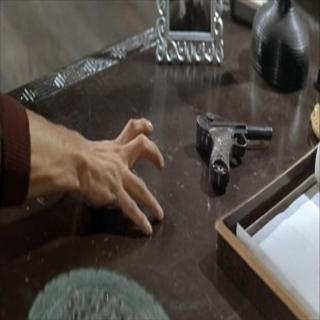gun: (194, 100, 275, 188)
